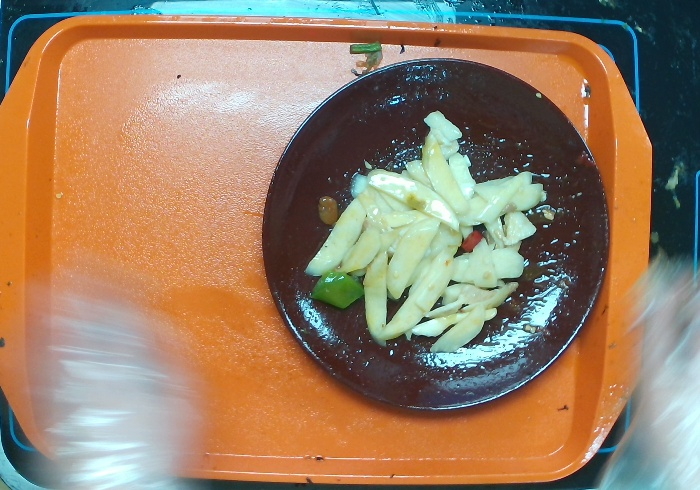HZYJPL-Ka_Fei_Yuan_Pan: (260, 56, 612, 414)
